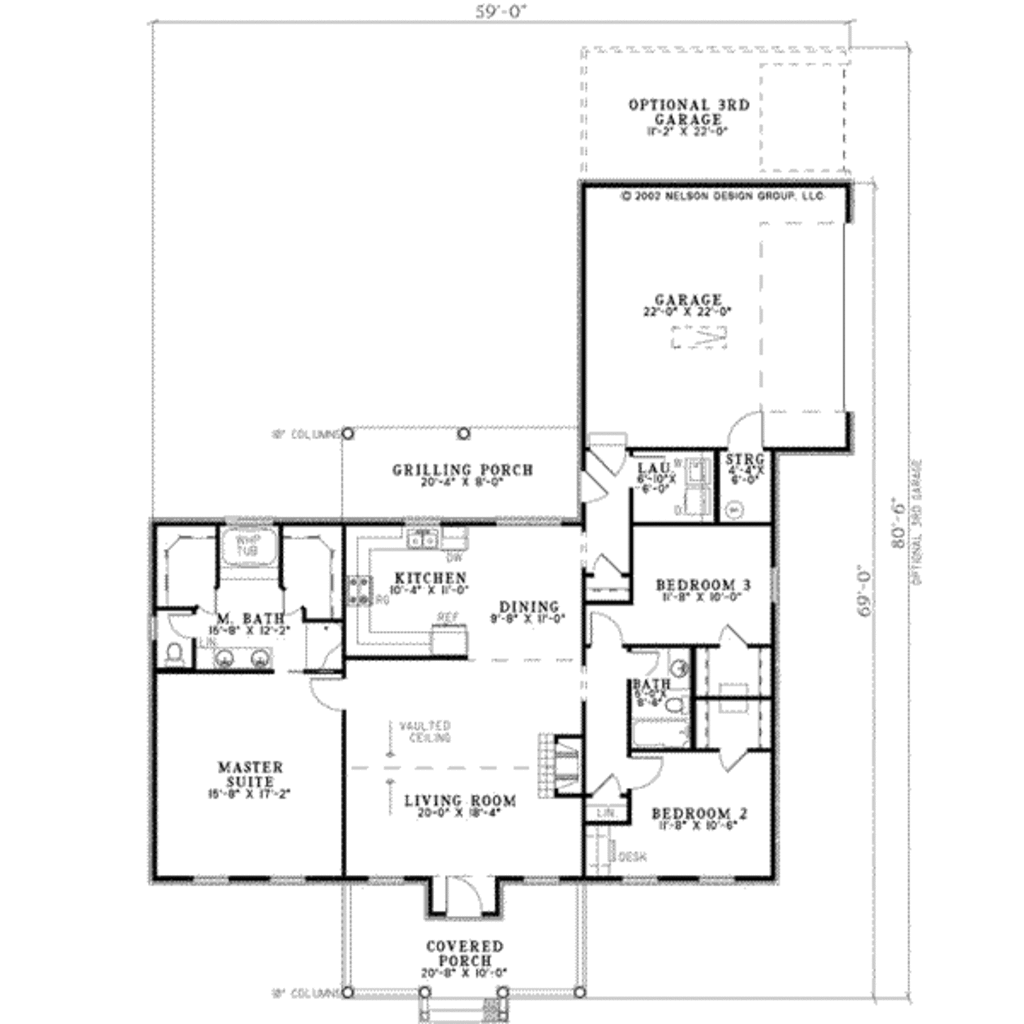door: (717, 405, 777, 461), (430, 867, 483, 919), (584, 602, 630, 652), (589, 432, 639, 478), (628, 752, 675, 796), (316, 678, 359, 716), (169, 608, 205, 639), (713, 746, 750, 774), (713, 621, 745, 649)
large_sink: (155, 633, 194, 669), (656, 691, 705, 719)
small_sink: (205, 639, 278, 675), (664, 650, 692, 689)
tub: (625, 714, 692, 747)
window: (491, 511, 566, 530), (195, 866, 241, 891), (269, 867, 305, 896), (366, 872, 398, 891)
